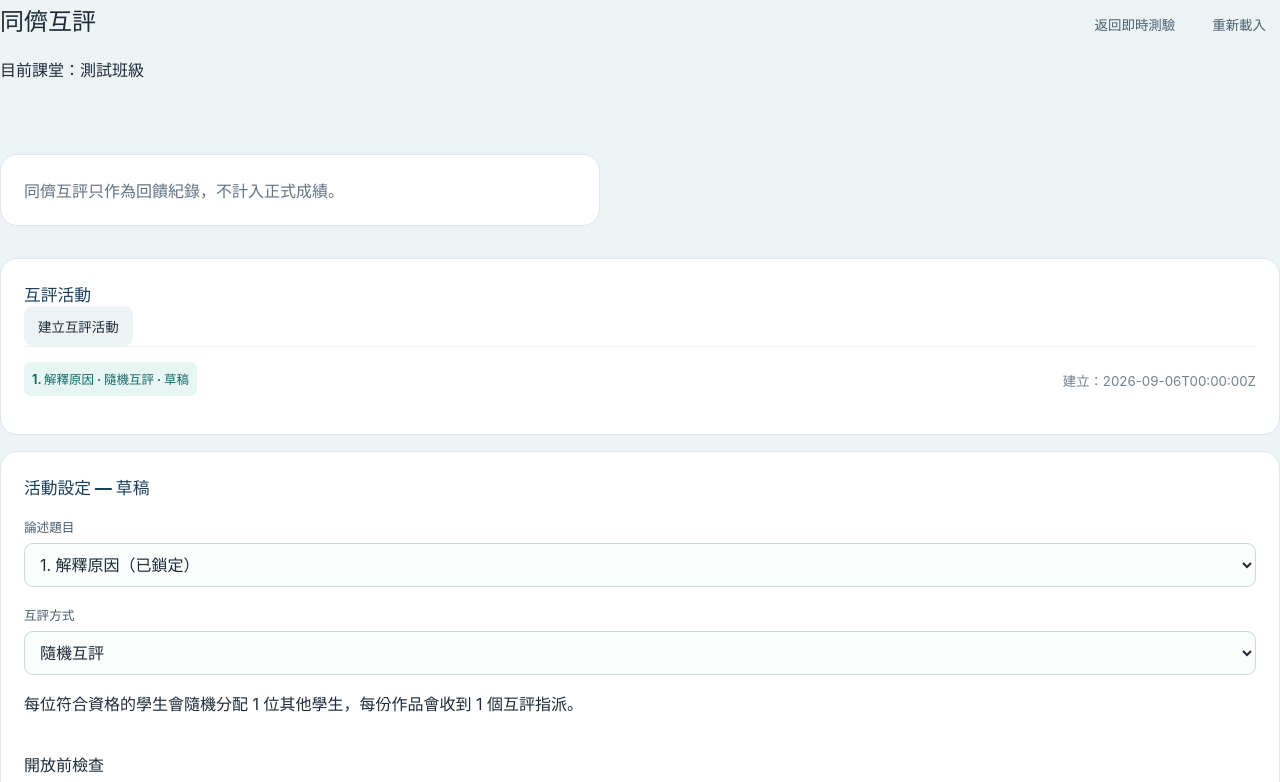
Teacher Peer Review setup › reloads after a concurrent Session End rejects an operation
The width and height of the screenshot is (1280, 782).
Select "學生自行選擇" in the dropdown labelled "互評方式" at (640, 653), box [24,631,1256,675]
(page scrolled)
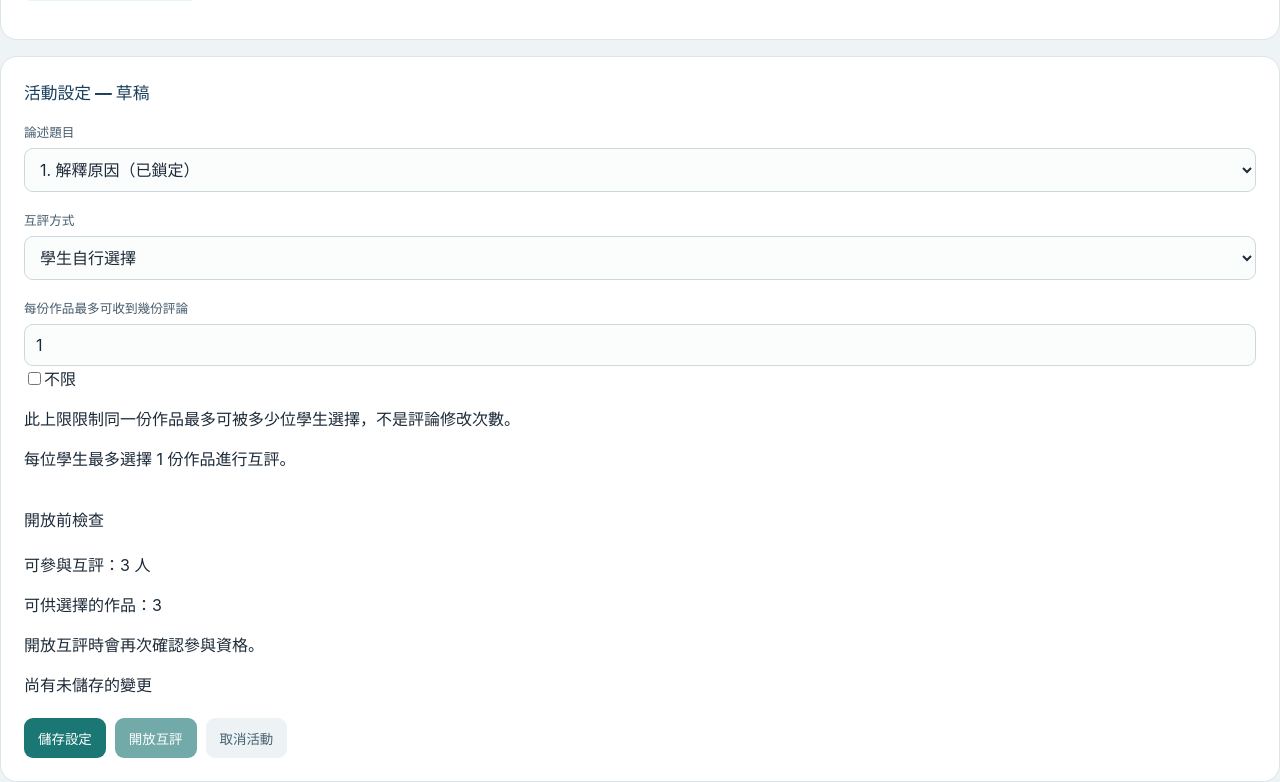
Click the button "儲存設定" at (65, 738), box [24,718,106,758]
(page scrolled)
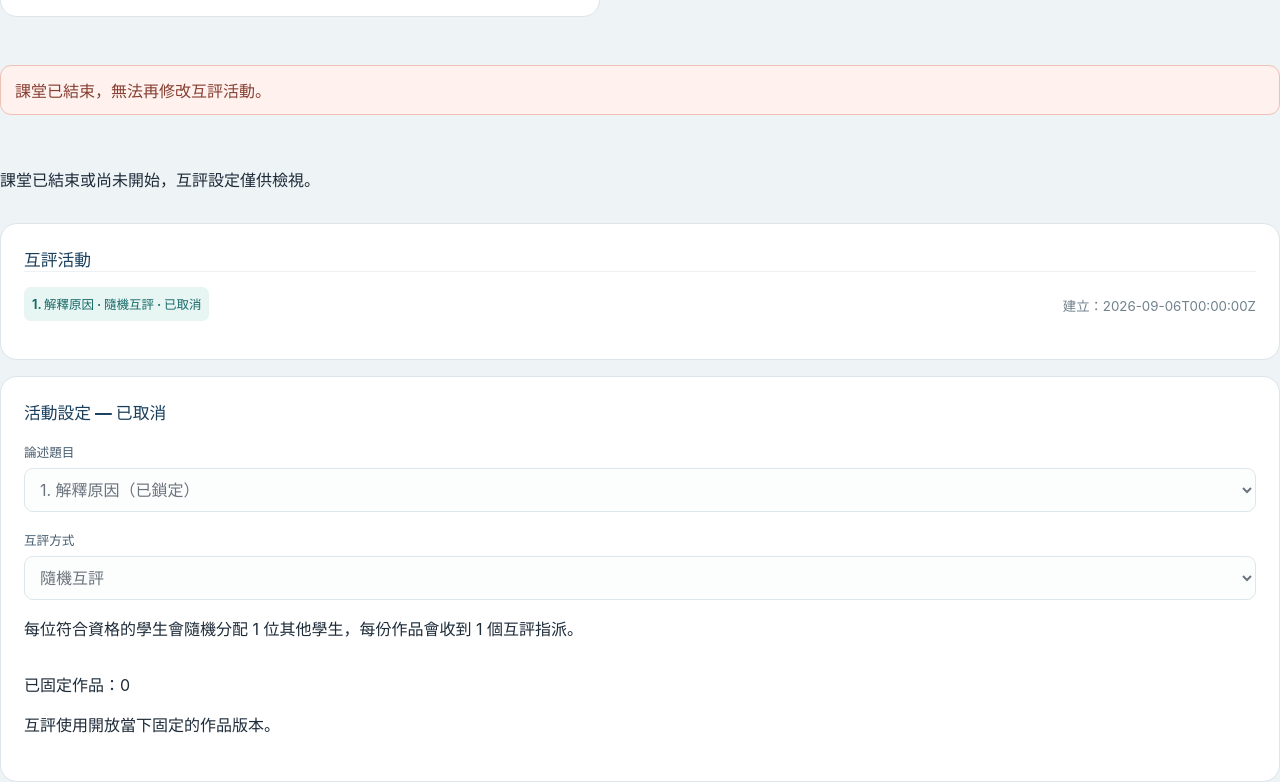
Expected: the dropdown labelled "互評方式" is disabled, [24,556,1256,600]
Expected: the heading "活動設定 — 已取消" is shown, [24,403,166,423]
